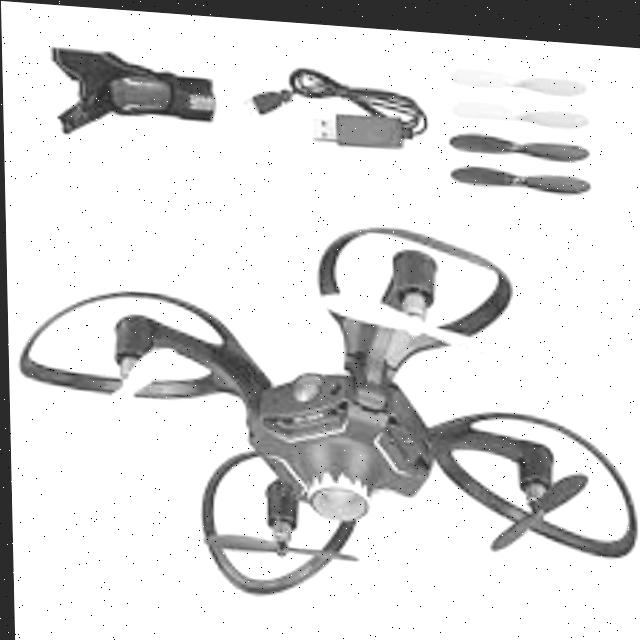drone: (8, 182, 640, 609)
